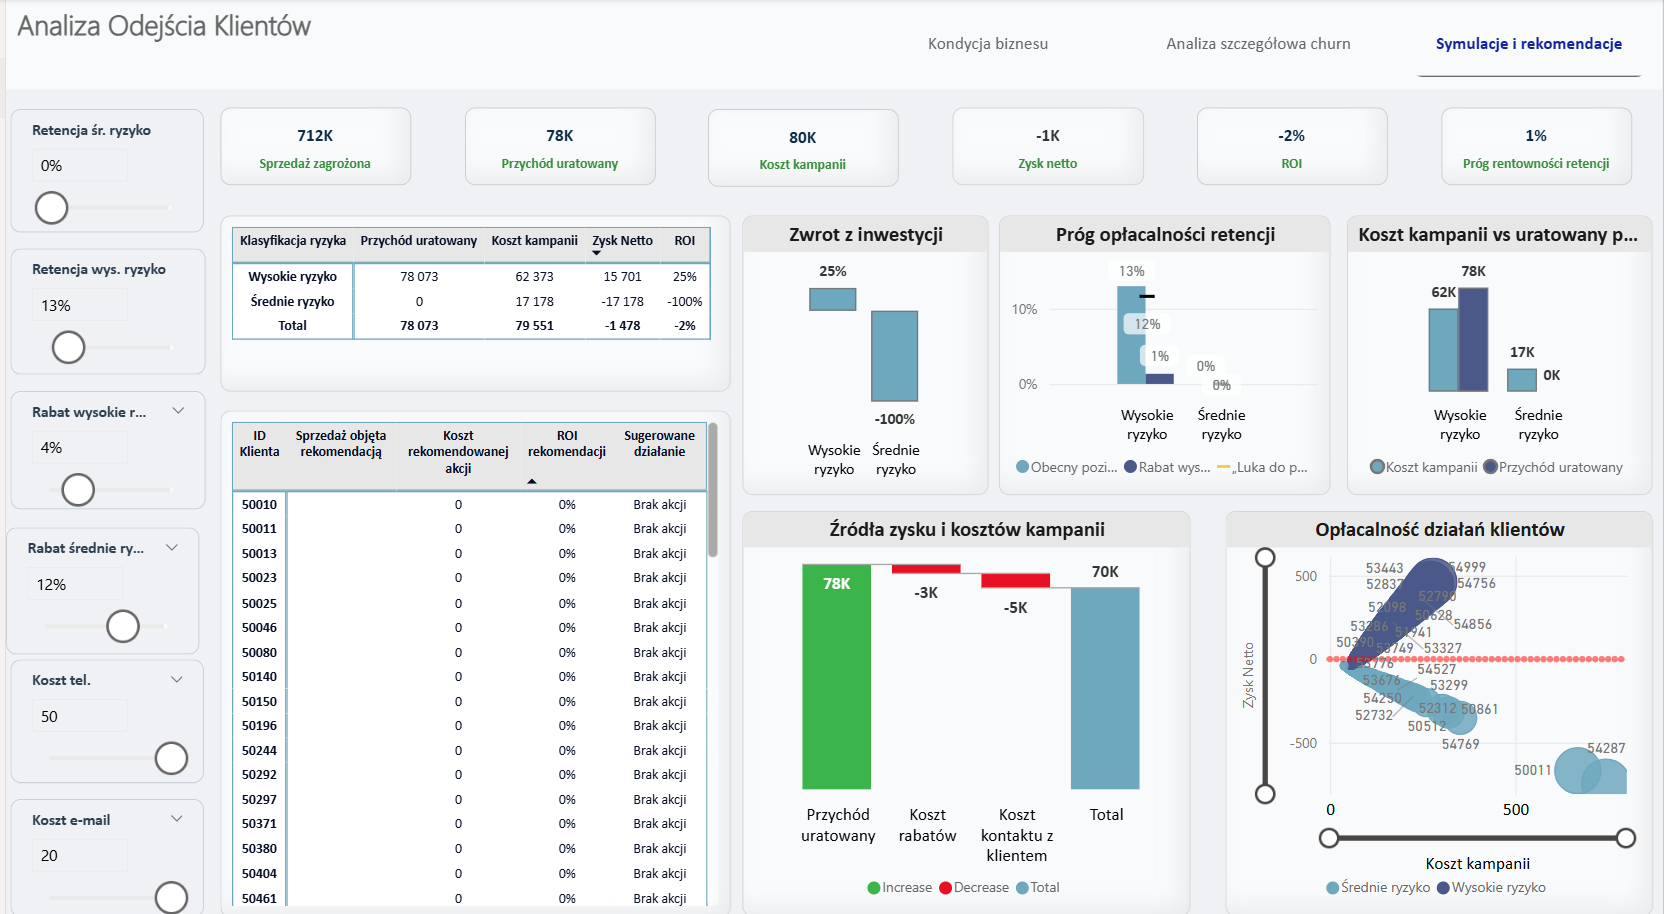

The page's visual inventory and layout, read from the dashboard file:
{"tool":"powerbi","page":{"name":"Symulacje i rekomendacje","canvas":[1280,720],"ordinal":2},"visuals":[{"type":"shape","box":[0,0,1279.2,70.7],"z":0},{"type":"textbox","box":[3.5,0,290.8,76.5],"z":1000},{"type":"card","fields":{"Values":["Measure_table.NetSales_if_retained"]},"box":[354.4,85,147,60],"z":2000},{"type":"card","fields":{"Values":["Measure_table.Net_Profit"]},"box":[731.1,85,148,60],"z":3000},{"type":"card","fields":{"Values":["Measure_table.ROI"]},"box":[920.5,84.6,147.2,60.3],"z":4000},{"type":"card","fields":{"Values":["Measure_table.Campaign_Cost"]},"box":[542.7,86,147,60],"z":5000},{"type":"card","fields":{"Values":["Measure_table.Sales_At_Risk"]},"box":[166,85,147,60],"z":6000},{"type":"pageNavigator","box":[659.8,0,619.6,70.4],"z":7000},{"type":"slicer","fields":{"Values":["pRetMed.pRetMed"]},"box":[3.5,85.7,149.5,95],"z":8000},{"type":"slicer","fields":{"Values":["pRetHigh.pRetHigh"]},"box":[3.5,193.7,150.6,97.3],"z":9000},{"type":"slicer","fields":{"Values":["pDiscHigh.pDiscHigh"]},"box":[3.5,304.1,150.6,91.5],"z":10000},{"type":"slicer","fields":{"Values":["pDiscMed.pDiscMed"]},"box":[0,409,149,98],"z":11000},{"type":"slicer","fields":{"Values":["pPhoneCost.pPhoneCost"]},"box":[3.5,510.8,149.5,95],"z":12000},{"type":"slicer","fields":{"Values":["pEmailCost.pEmailCost"]},"box":[3.5,618.8,149.5,91.5],"z":13000},{"type":"pivotTable","fields":{"Rows":["All_Customers.Churn_risk_PL"],"Values":["Measure_table.NetSales_if_retained","Measure_table.Campaign_Cost","Measure_table.Net_Profit","Measure_table.ROI"]},"box":[166,168,394,136],"z":14000},{"type":"lineStackedColumnComboChart","title":"Zwrot z inwestycji","fields":{"Y":["Measure_table.ROI"],"Category":["All_Customers.Churn_risk_PL"]},"box":[569,168,190,216],"z":15000},{"type":"lineClusteredColumnComboChart","title":"Koszt kampanii vs uratowany przychód","fields":{"Category":["All_Customers.Churn_risk_PL"],"Y":["Measure_table.Campaign_Cost","Measure_table.NetSales_if_retained"]},"box":[1036,168,236,216],"z":16000},{"type":"waterfallChart","title":"Źródła zysku i kosztów kampanii","fields":{"Y":["Measure_table.WF Amount"],"Category":["WF_Parts.Part"]},"box":[569,396,346,313],"z":17000},{"type":"lineClusteredColumnComboChart","title":"Próg opłacalności retencji","fields":{"Category":["All_Customers.Churn_risk_PL"],"Y":["Measure_table.Ret Now (ctx)","Measure_table.Ret BE"],"Y2":["Measure_table.Ret Gap"]},"box":[767,168,256,216],"z":18000},{"type":"scatterChart","title":"Opłacalność działań klientów","fields":{"X":["Measure_table.Campaign_Cost"],"Y":["Measure_table.Net_Profit"],"Category":["All_Customers.CustomerID"],"Size":["Measure_table.Sales_At_Risk"],"Series":["All_Customers.Churn_risk_PL"]},"box":[942,396,330,313],"z":19000},{"type":"card","fields":{"Values":["Measure_table.Ret BE"]},"box":[1109,85,147,60],"z":20000},{"type":"pivotTable","fields":{"Values":["Measure_table.Rec Targeted Sales","Measure_table.Rec Net Profit","Measure_table.Rec ROI","Measure_table.Best_Action"],"Rows":["All_Customers.CustomerID"]},"box":[166,319,394,392],"z":21000}]}

Visuals, with their boxes in screenshot pixels (x1, y1, x2, y2), scaled from the page's 1280x720 canvas onto the 1664x914 screenshot:
shape: 0, 0, 1663, 90
textbox: 5, 0, 383, 97
card - Measure_table.NetSales_if_retained: 461, 108, 652, 184
card - Measure_table.Net_Profit: 950, 108, 1143, 184
card - Measure_table.ROI: 1197, 107, 1388, 184
card - Measure_table.Campaign_Cost: 706, 109, 897, 185
card - Measure_table.Sales_At_Risk: 216, 108, 407, 184
pageNavigator: 858, 0, 1663, 89
slicer - pRetMed.pRetMed: 5, 109, 199, 229
slicer - pRetHigh.pRetHigh: 5, 246, 200, 369
slicer - pDiscHigh.pDiscHigh: 5, 386, 200, 502
slicer - pDiscMed.pDiscMed: 0, 519, 194, 644
slicer - pPhoneCost.pPhoneCost: 5, 648, 199, 769
slicer - pEmailCost.pEmailCost: 5, 786, 199, 902
pivotTable - All_Customers.Churn_risk_PL x Measure_table.NetSales_if_retained: 216, 213, 728, 386
"Zwrot z inwestycji" lineStackedColumnComboChart: 740, 213, 987, 487
"Koszt kampanii vs uratowany przychód" lineClusteredColumnComboChart: 1347, 213, 1654, 487
"Źródła zysku i kosztów kampanii" waterfallChart: 740, 503, 1190, 900
"Próg opłacalności retencji" lineClusteredColumnComboChart: 997, 213, 1330, 487
"Opłacalność działań klientów" scatterChart: 1225, 503, 1654, 900
card - Measure_table.Ret BE: 1442, 108, 1633, 184
pivotTable - Measure_table.Rec Targeted Sales x Measure_table.Rec Net Profit: 216, 405, 728, 903
